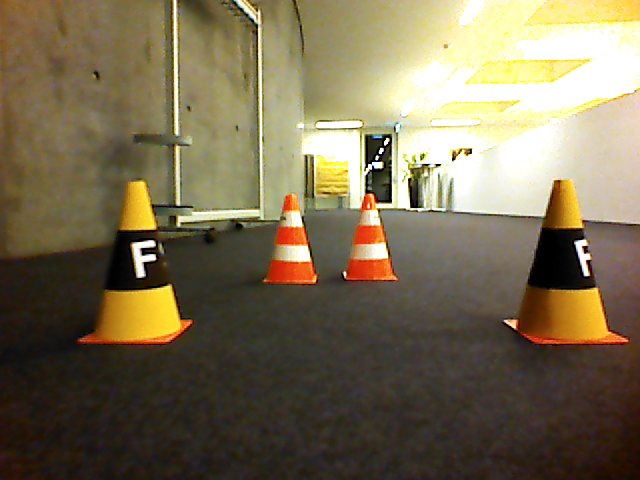orangeconesmall: (340, 193, 399, 283), (262, 193, 319, 285)
yellowcone: (501, 178, 629, 347), (77, 180, 194, 346)
